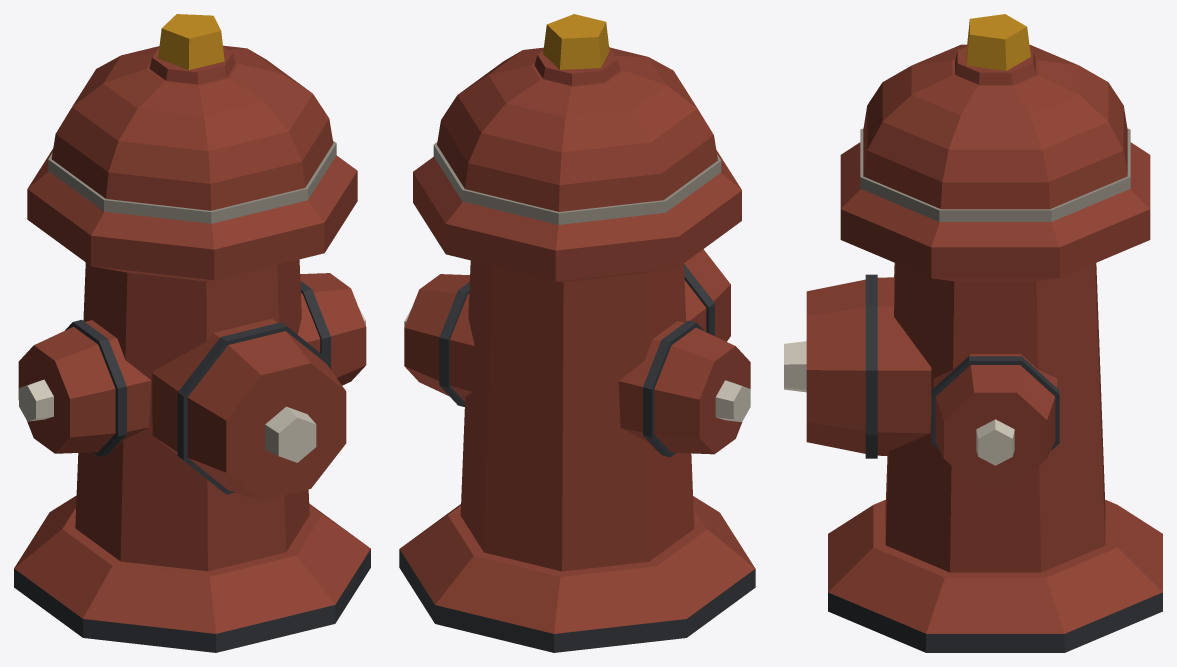
Rendered from fire-hydrant-b68b17.glb.
The picture shows the model from 3 angles, left to right: view 1: azimuth 30°, elevation 25°; view 2: azimuth 150°, elevation 25°; view 3: azimuth 270°, elevation 25°; orthographic projection.
Visible parts, largest first — view 1: hydrant-body, steamer-cap-mesh, side-cap-left-mesh, side-cap-right-mesh, operating-nut-mesh; view 2: hydrant-body, side-cap-left-mesh, side-cap-right-mesh, operating-nut-mesh, steamer-cap-mesh; view 3: hydrant-body, side-cap-right-mesh, steamer-cap-mesh, operating-nut-mesh.
Boxes of the visible parts, x1=… form: hydrant-body: x1=14, y1=45, x2=370, y2=652; steamer-cap-mesh: x1=187, y1=331, x2=346, y2=500; side-cap-left-mesh: x1=18, y1=326, x2=115, y2=453; side-cap-right-mesh: x1=300, y1=273, x2=366, y2=385; operating-nut-mesh: x1=158, y1=14, x2=224, y2=69; hydrant-body: x1=399, y1=46, x2=755, y2=652; side-cap-left-mesh: x1=654, y1=327, x2=750, y2=454; side-cap-right-mesh: x1=404, y1=274, x2=469, y2=395; operating-nut-mesh: x1=543, y1=14, x2=609, y2=69; steamer-cap-mesh: x1=684, y1=249, x2=730, y2=341; hydrant-body: x1=828, y1=44, x2=1162, y2=652; side-cap-right-mesh: x1=935, y1=365, x2=1055, y2=486; steamer-cap-mesh: x1=784, y1=279, x2=865, y2=453; operating-nut-mesh: x1=966, y1=14, x2=1030, y2=70.
Size of the model in its own units: 0.508 by 0.812 by 0.5017.
